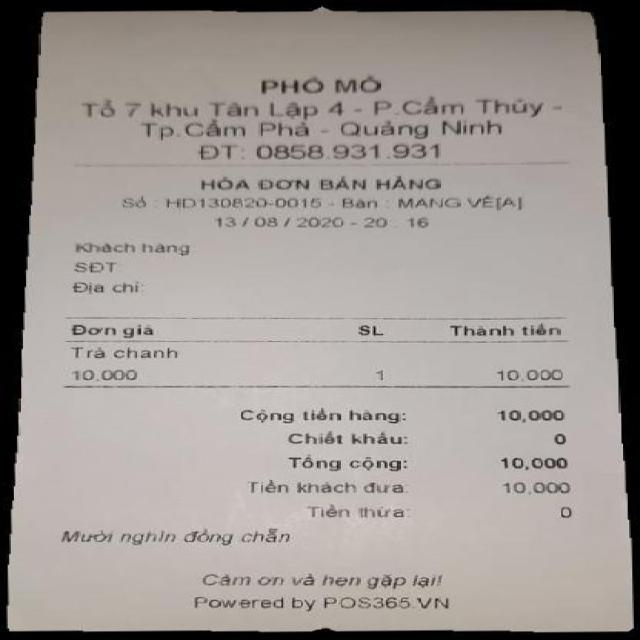Date: (212, 212, 348, 234)
Store_Name: (251, 69, 390, 100)
amount_number: (500, 452, 573, 472)
label_total: (281, 451, 409, 474)
